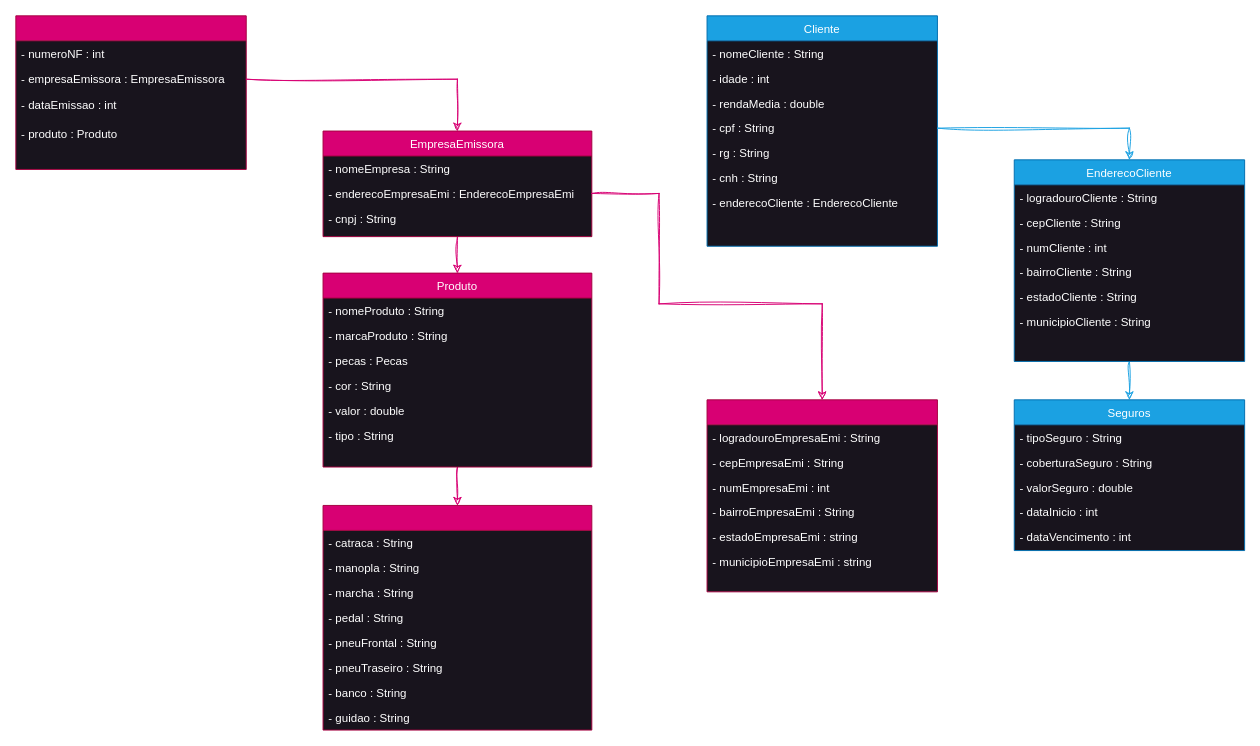
The diagram is 1260 pixels wide and 746 high, and some of its shapes have lost their labels. The shapes that lost their labels are listed below. From the top down, each one's box as (x1, y1, x2, y2) in pixels, then its label:
(15, 15, 246, 169): NotaFiscal
(706, 399, 937, 592): EnderecoEmpresaEmi
(322, 504, 592, 730): Pecas
